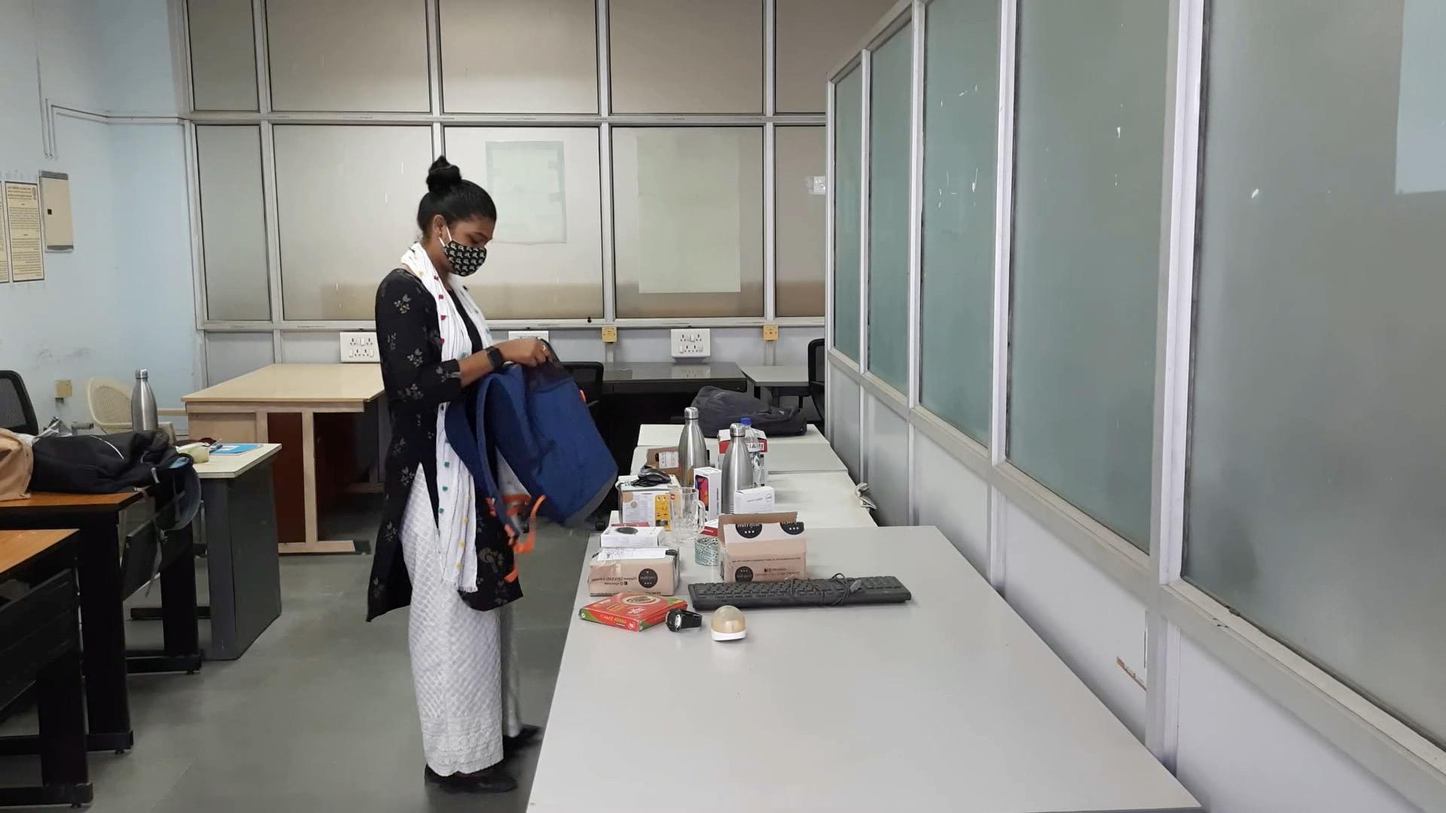shoplifting: (266, 304, 690, 617)
